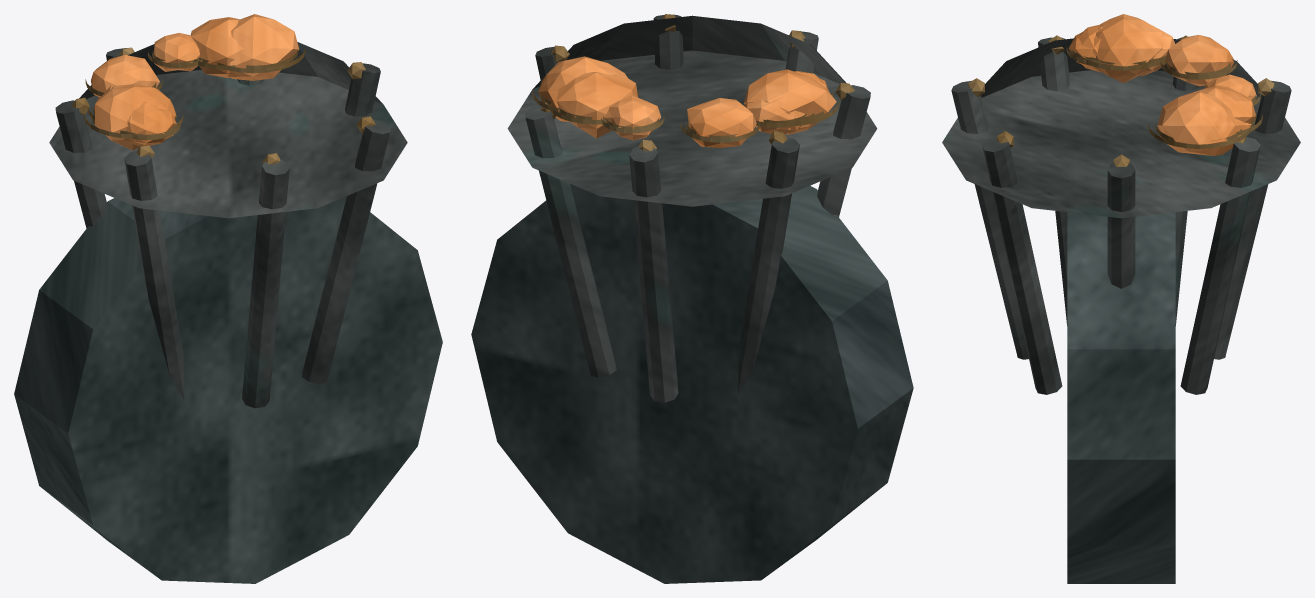
The model's file is 0530_brazier_05.glb.
The picture shows the model from 3 angles, left to right: view 1: azimuth 30°, elevation 25°; view 2: azimuth 150°, elevation 25°; view 3: azimuth 270°, elevation 25°; orthographic projection. The views are drawn at different scales.
Parts seen in each view (by area): view 1: stone_dark, iron, amber, brass; view 2: stone_dark, iron, amber, brass; view 3: iron, stone_dark, amber, brass.
Part boxes in pixels (x1,y1,x2,y2): stone_dark: (14,196,442,583); iron: (49,42,407,408); amber: (91,14,299,150); brass: (71,47,375,164); stone_dark: (471,184,913,583); iron: (507,14,877,402); amber: (538,56,836,147); brass: (532,14,854,150); iron: (942,37,1300,394); stone_dark: (1067,212,1175,583); amber: (1068,14,1256,155); brass: (968,35,1274,166).
Bounding box in the file's own units: 1.4 × 1.8 × 1.16.
Materials: 4 (4 with a texture image).
